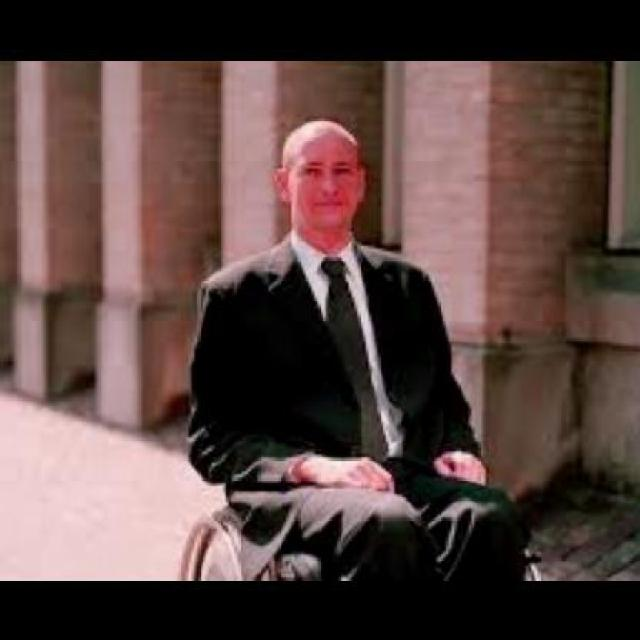wheelchairs: (165, 431, 558, 580)
